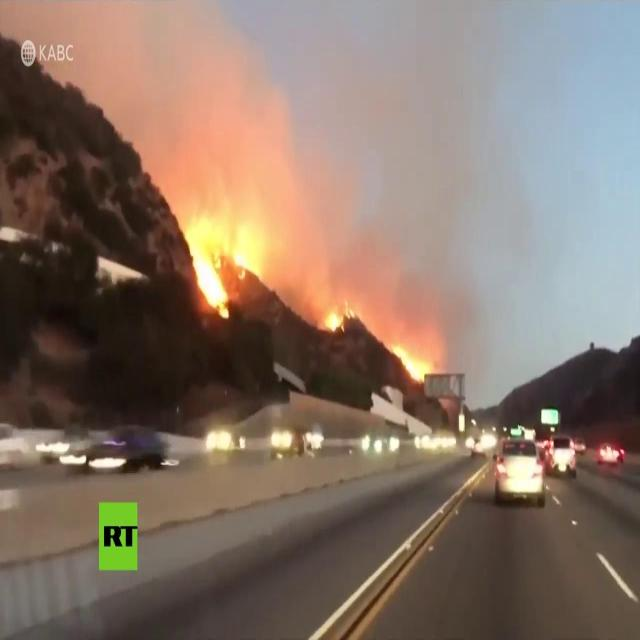Fire: (185, 222, 259, 323), (392, 346, 428, 385), (326, 300, 356, 336)
